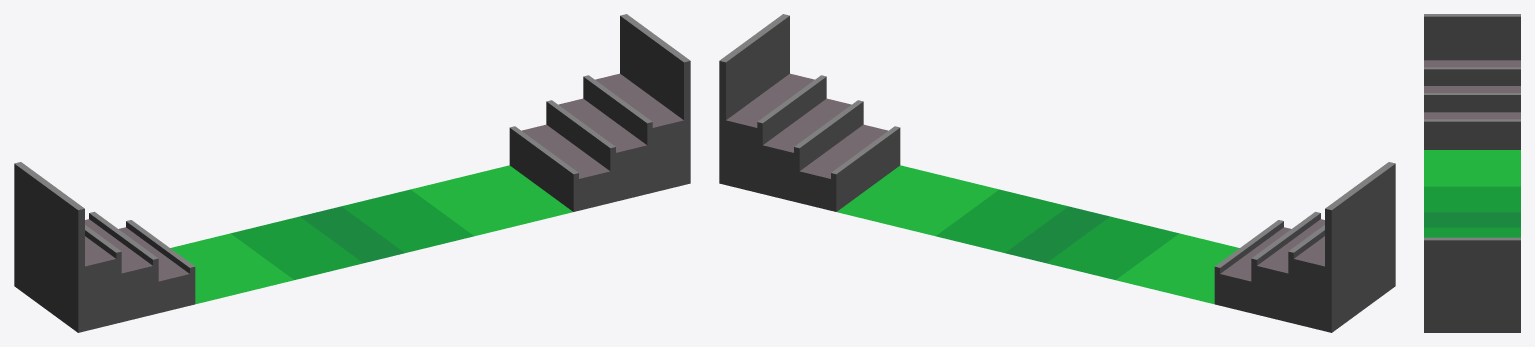
3 views of the same model, side by side, from view 1: azimuth 30°, elevation 25°; view 2: azimuth 150°, elevation 25°; view 3: azimuth 270°, elevation 25° (orthographic). The views are drawn at different scales.
Parts seen in each view (by area): view 1: regular_centro; view 2: regular_centro; view 3: regular_centro.
Part boxes in pixels (box(x1,y1,x2,y2)): regular_centro: box(14, 14, 690, 332); regular_centro: box(719, 14, 1395, 332); regular_centro: box(1424, 14, 1520, 332).
Size of the model in its own units: 35383 by 6771 by 6400.
Materials: 1 (1 with a texture image).
